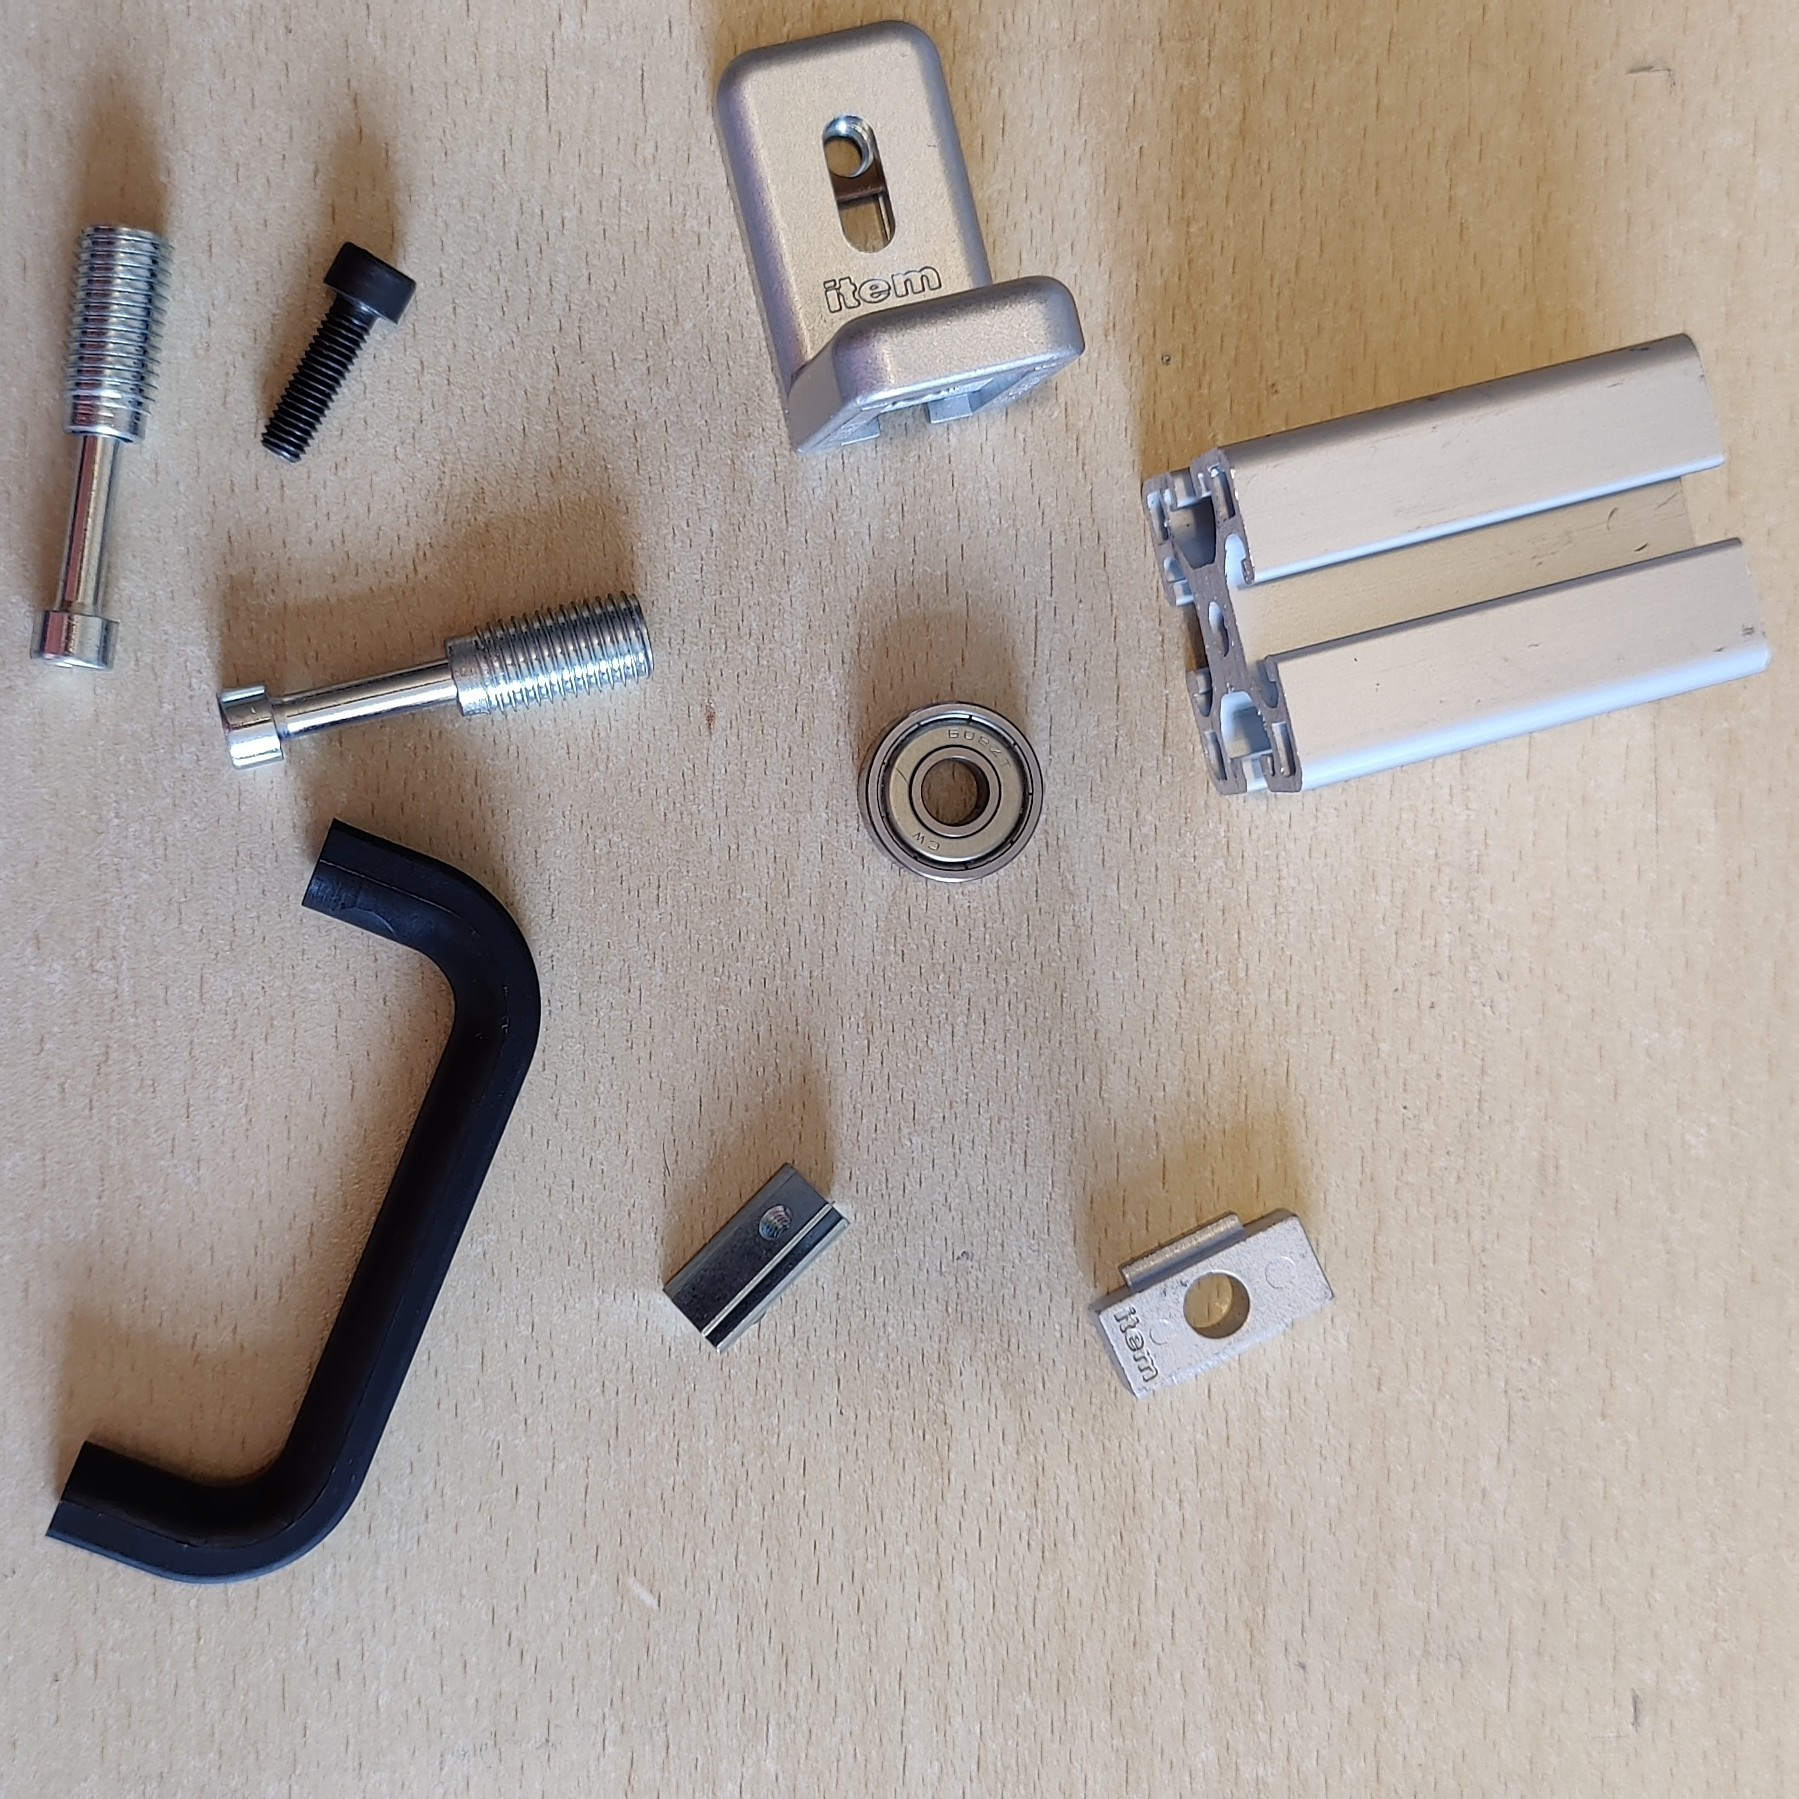Aluminium Extension: (1138, 329, 1773, 797)
Ball Bearing: (855, 699, 1048, 886)
Multiwinkel: (710, 16, 1086, 458)
Pull Handle: (46, 811, 542, 1586)
Shoulder Socket Head Cap Screw: (213, 586, 656, 771), (26, 221, 176, 675)
Socket Head Cap Screw: (255, 236, 418, 465)
T Nut Square: (1084, 1203, 1338, 1400)
T Spring Nut: (659, 1156, 852, 1361)
